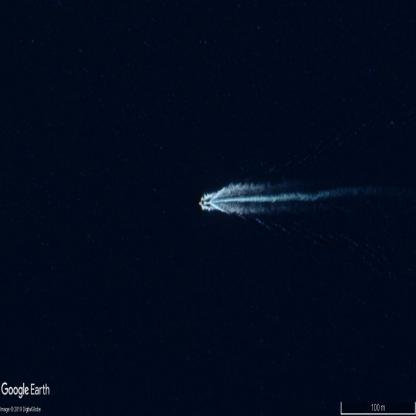ship: (199, 200, 207, 206)
